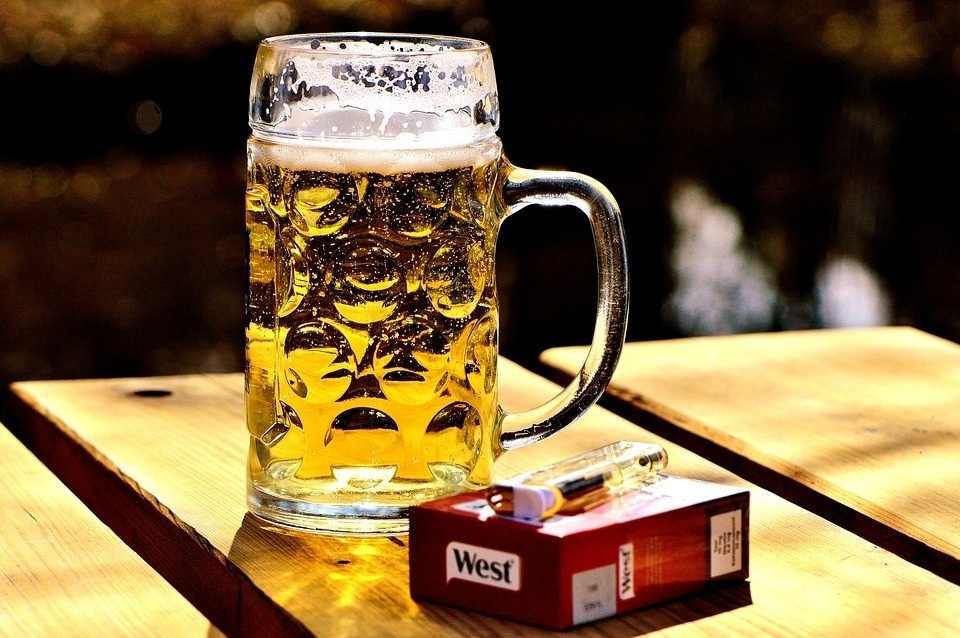whiskey: (247, 27, 498, 530)
